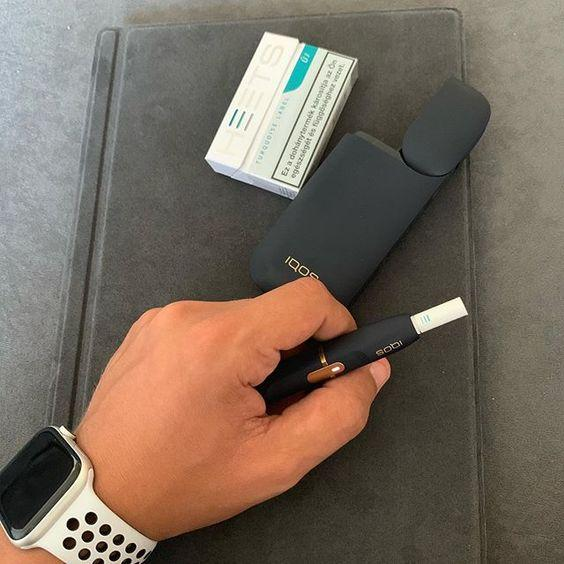iqos: (256, 297, 467, 412)
